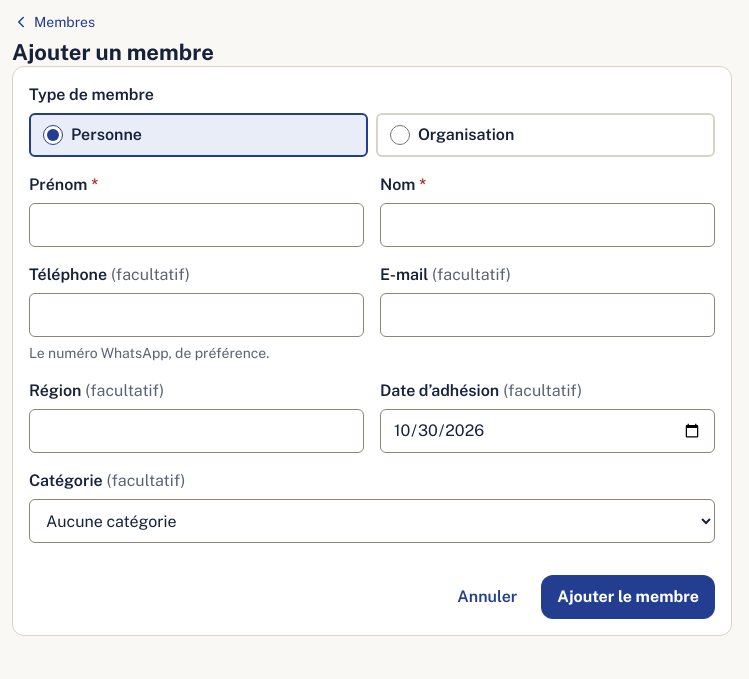
Test case: B6 — prénom et nom, ou raison sociale › une personne exige prénom ET nom, sans appeler l’API
Type "Gueye" into the field labelled "Nom *".
click(548, 225); type("Gueye")  # box top-left (380, 203), bottom-right (715, 247)
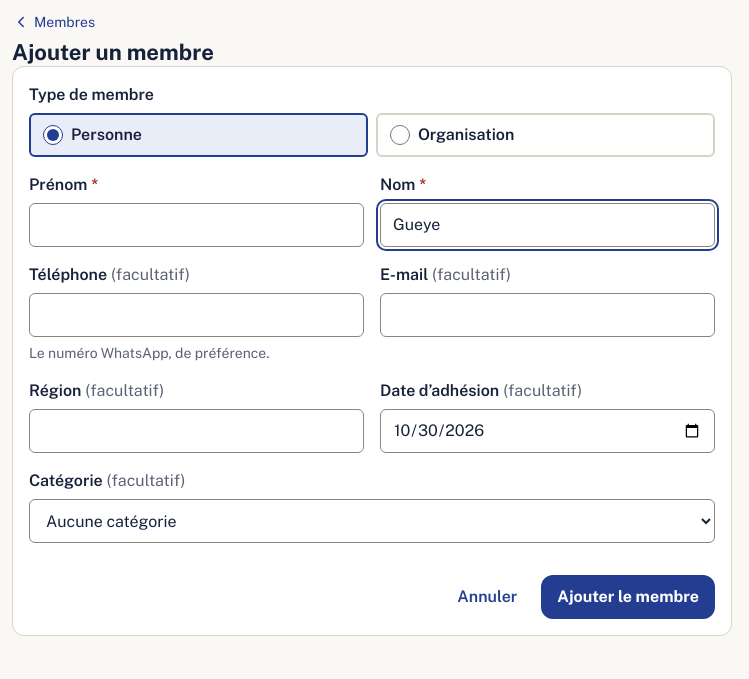
Click the button "Ajouter le membre".
click(628, 597)  # box top-left (541, 575), bottom-right (715, 619)
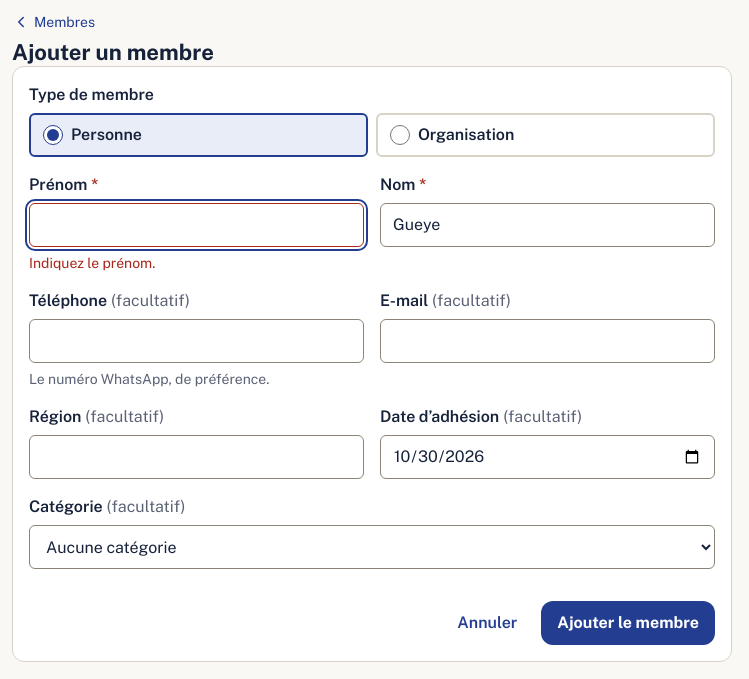
Check: the text "Indiquez le prénom." is shown, box top-left (29, 255), bottom-right (155, 271)
